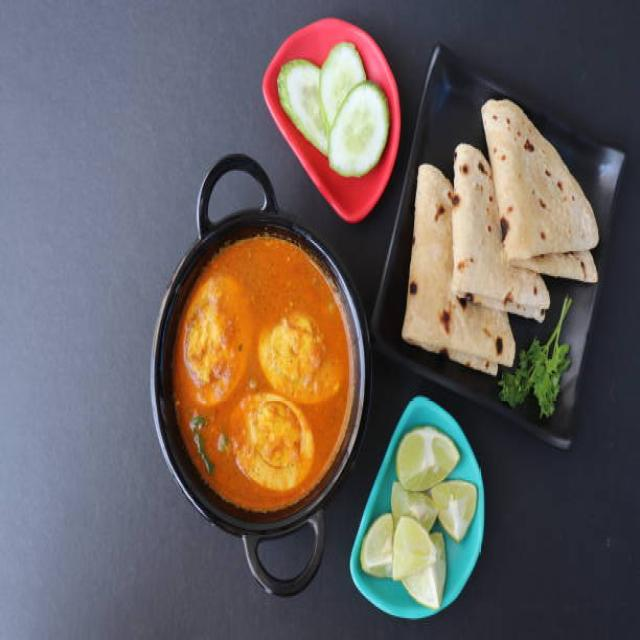CHAPATHI: (398, 102, 599, 378)
IDLI: (167, 233, 351, 507)
